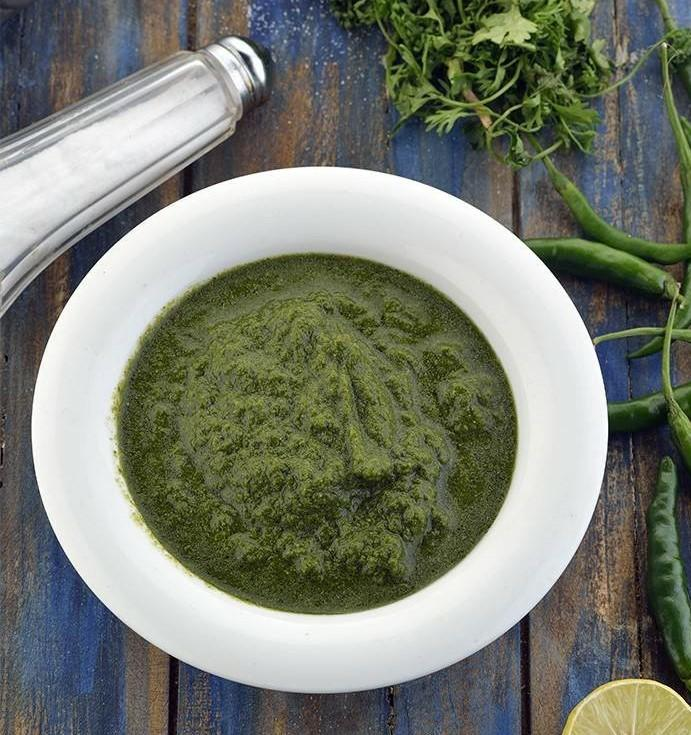GreenChutney: (116, 252, 514, 612)
